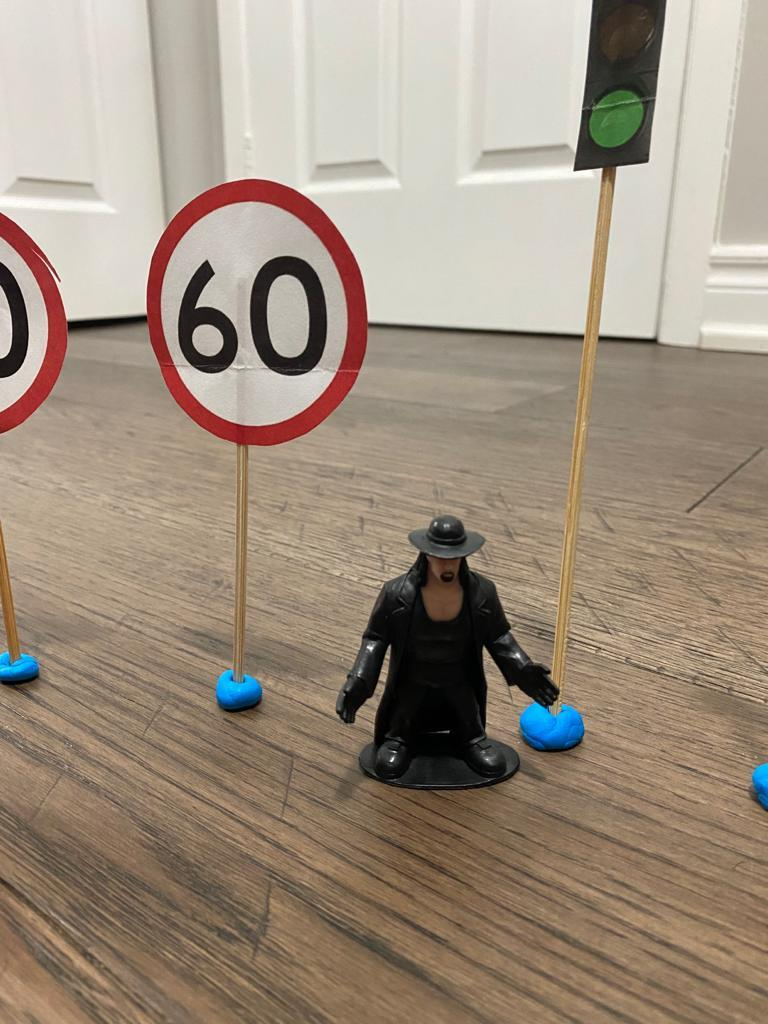Person: (336, 511, 563, 793)
Speed Limit 60: (146, 176, 368, 454)
